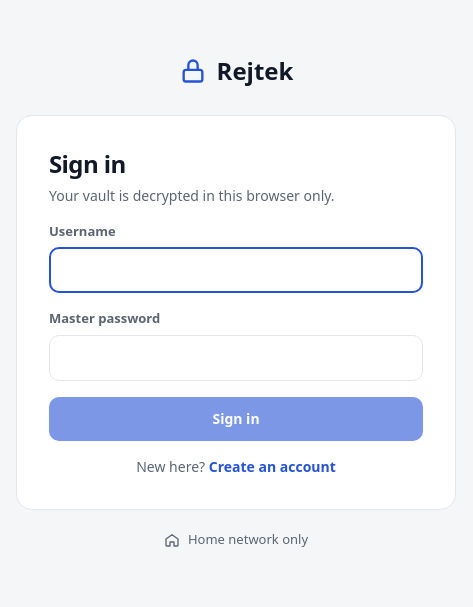
LoginPage › explains when the server is not reachable
Type "roland" into the field labelled "Username" at (236, 270), box [49,247,423,293]
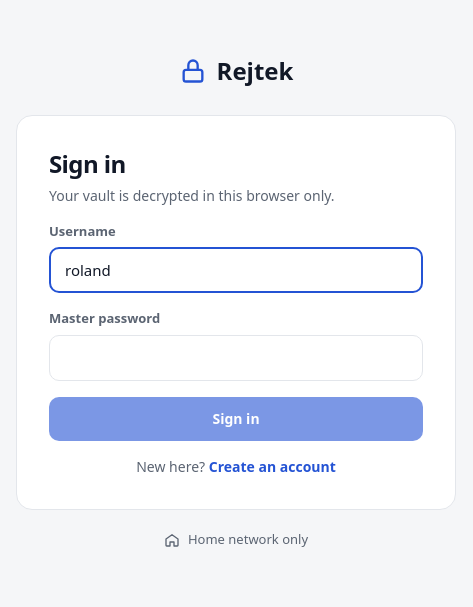
Type "whatever" into the password field labelled "Master password" at (236, 358), box [49,335,423,381]
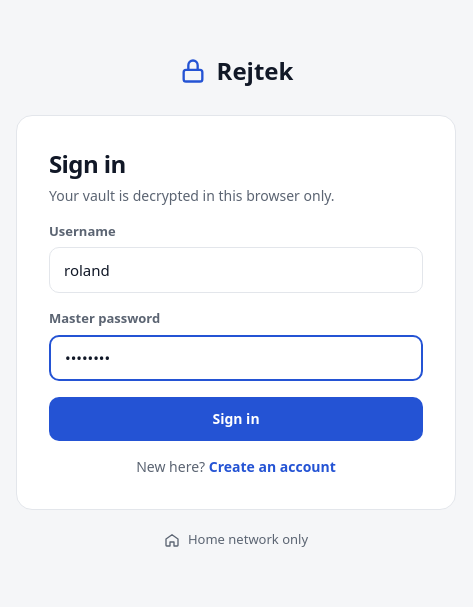
Click the button "Sign in" at (236, 419), box [49,397,423,441]
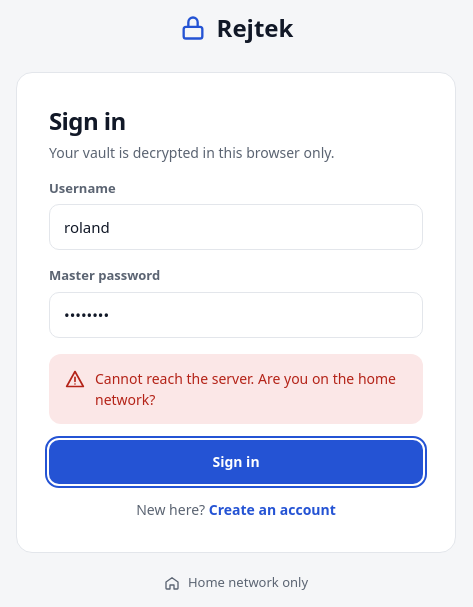
Now the message shows "Cannot reach the server", box [95,369,396,409]
